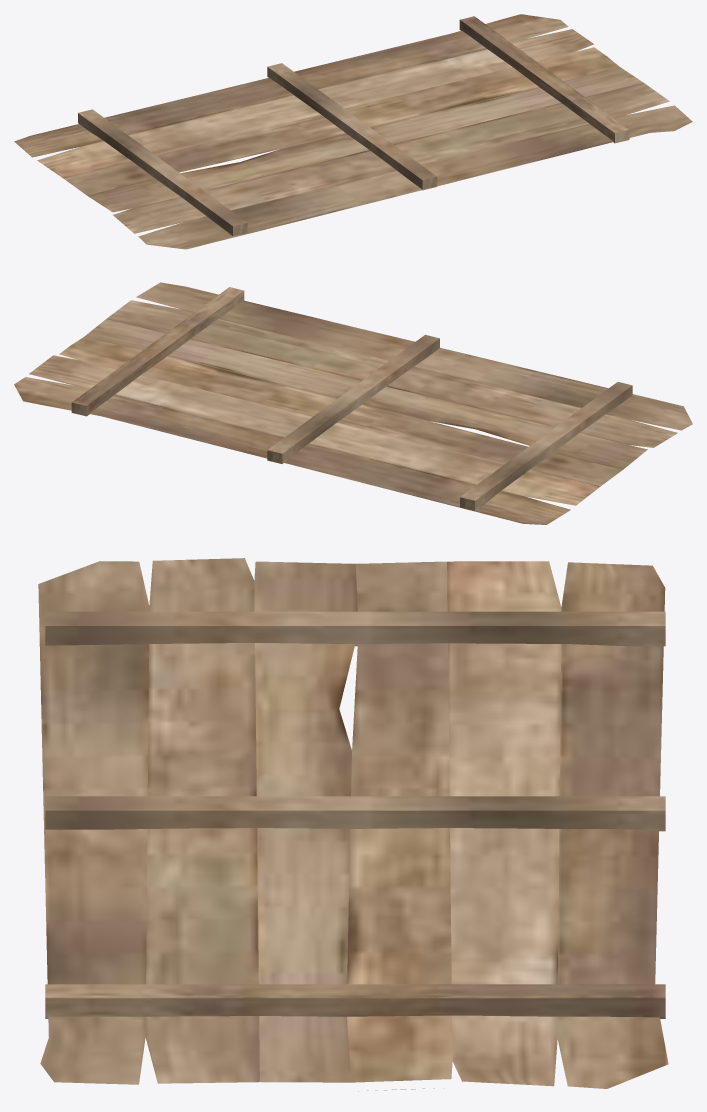
The model's file is sign.large.wood.static.glb.
3 views of the same model, one above another, from view 1: azimuth 30°, elevation 25°; view 2: azimuth 150°, elevation 25°; view 3: azimuth 270°, elevation 25° (orthographic). The views are drawn at different scales.
Parts seen in each view (by area): view 1: sign.wood.2x1_LOD1_Flat; view 2: sign.wood.2x1_LOD1_Flat; view 3: sign.wood.2x1_LOD1_Flat.
Part boxes in pixels (x1,y1,x2,y2): sign.wood.2x1_LOD1_Flat: (14,14,692,249); sign.wood.2x1_LOD1_Flat: (14,282,692,524); sign.wood.2x1_LOD1_Flat: (38,558,668,1091).
Bounding box in the file's own units: 3.01 × 0.083 × 1.52.
Materials: 1 (1 with a texture image).
